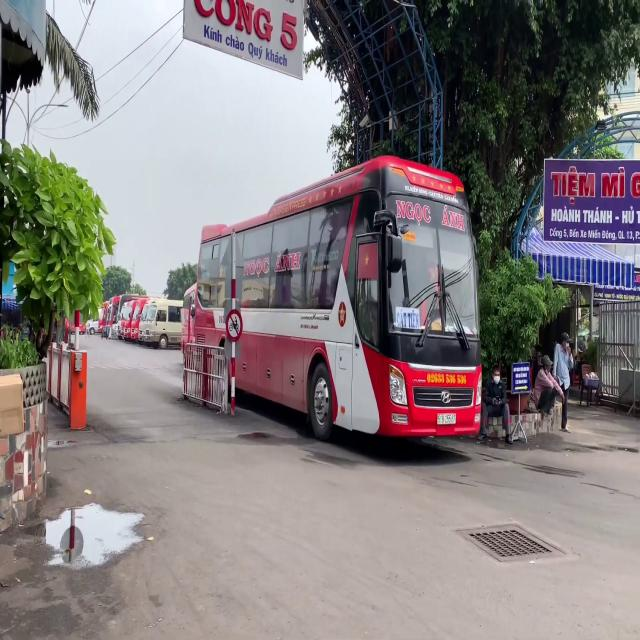bien_trang: (436, 413, 456, 426)
